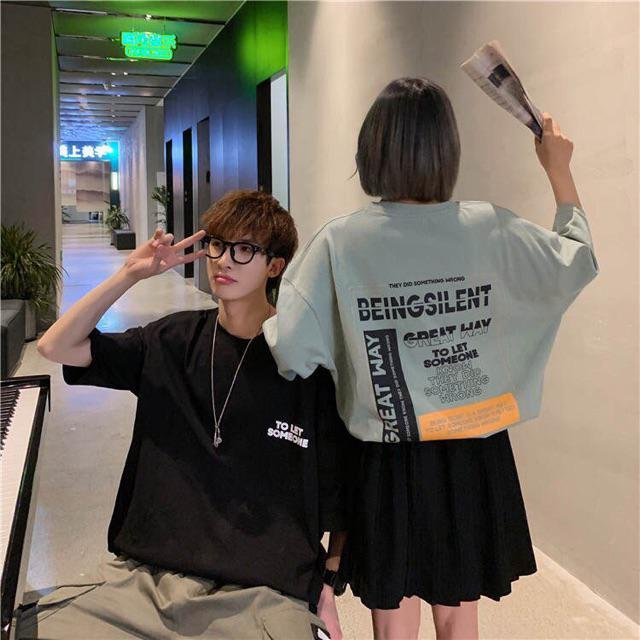Shirt: (263, 191, 601, 444)
